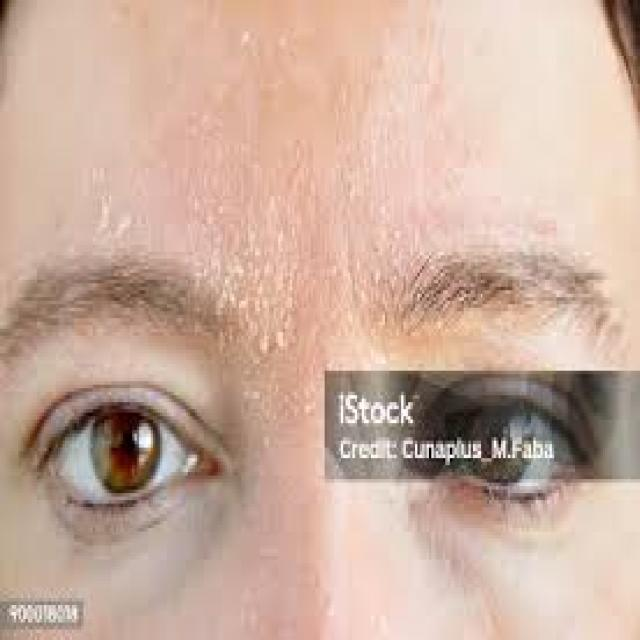flakiness: (87, 181, 296, 364)
